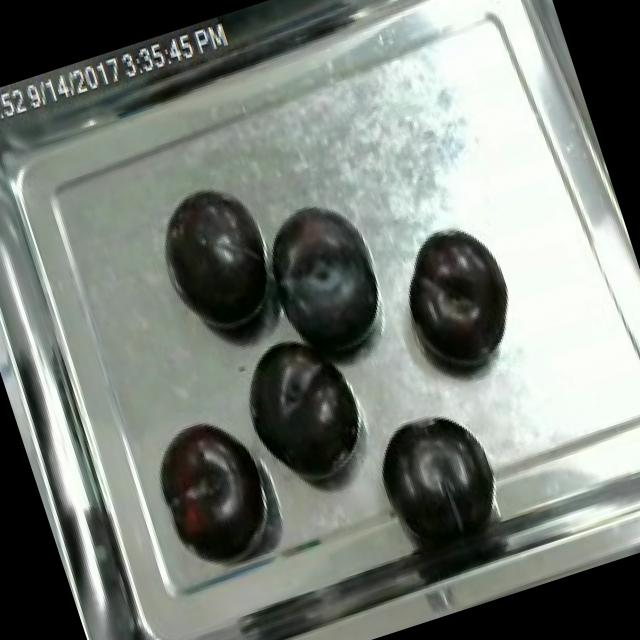Fruit: (251, 184, 407, 376), (221, 317, 377, 499), (141, 170, 294, 352), (382, 211, 532, 384), (140, 402, 284, 578), (363, 399, 508, 556)
